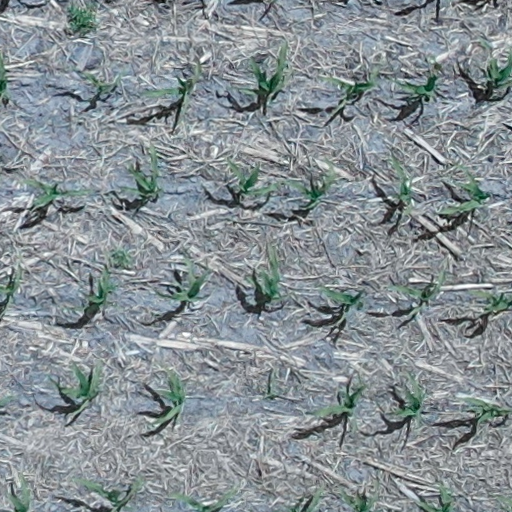planta: (319, 61, 379, 120), (140, 57, 202, 113), (47, 358, 101, 415), (235, 43, 290, 96), (436, 162, 489, 215), (281, 158, 336, 209), (153, 257, 213, 303), (245, 245, 294, 301), (391, 271, 446, 318), (63, 268, 118, 312), (119, 141, 160, 198), (21, 179, 90, 211), (393, 57, 441, 102), (226, 158, 279, 198), (306, 382, 368, 416), (382, 154, 416, 216), (315, 283, 364, 326), (151, 364, 185, 424), (388, 371, 424, 417), (460, 397, 511, 426), (83, 68, 127, 95), (467, 290, 511, 311), (487, 51, 511, 88)
